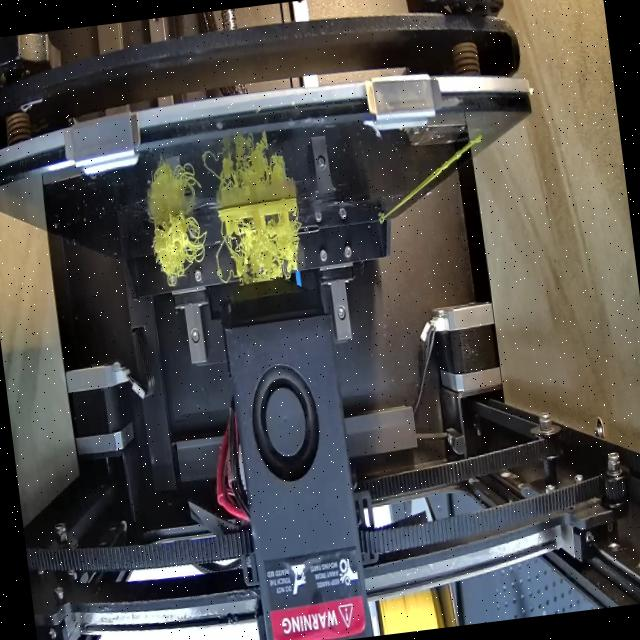spaghetti: (214, 215, 304, 290), (148, 210, 212, 292)
